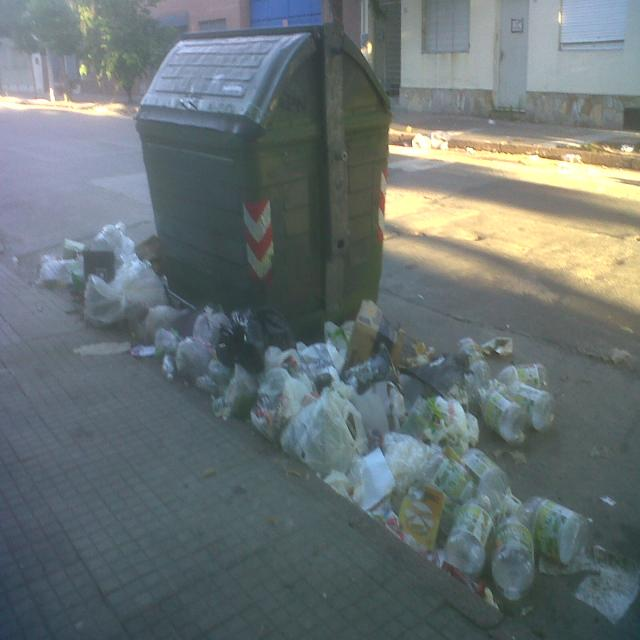garbage: (314, 356, 598, 619), (153, 318, 413, 430), (42, 222, 164, 352)
